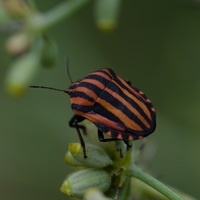insect: (30, 68, 155, 157)
